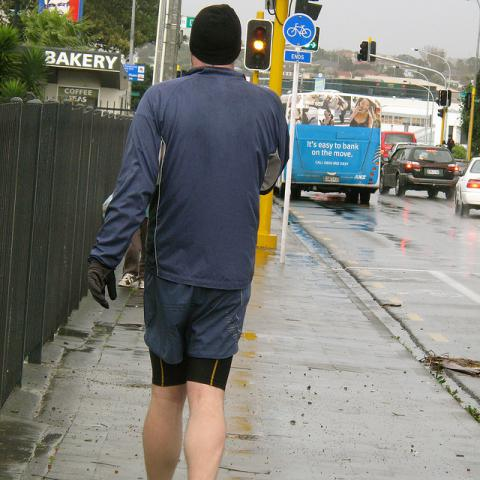bus: (280, 86, 390, 200)
car: (380, 146, 462, 198), (453, 156, 479, 220), (380, 130, 418, 157)
truck: (293, 92, 381, 205)
